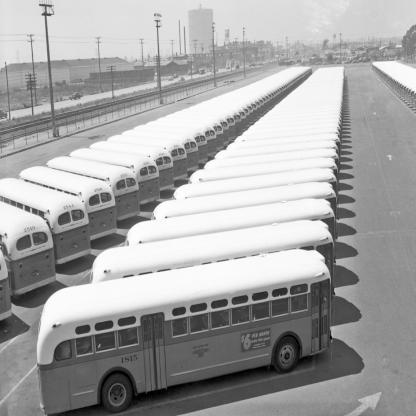Bus: (35, 65, 345, 415), (0, 63, 314, 323), (370, 56, 416, 110)
